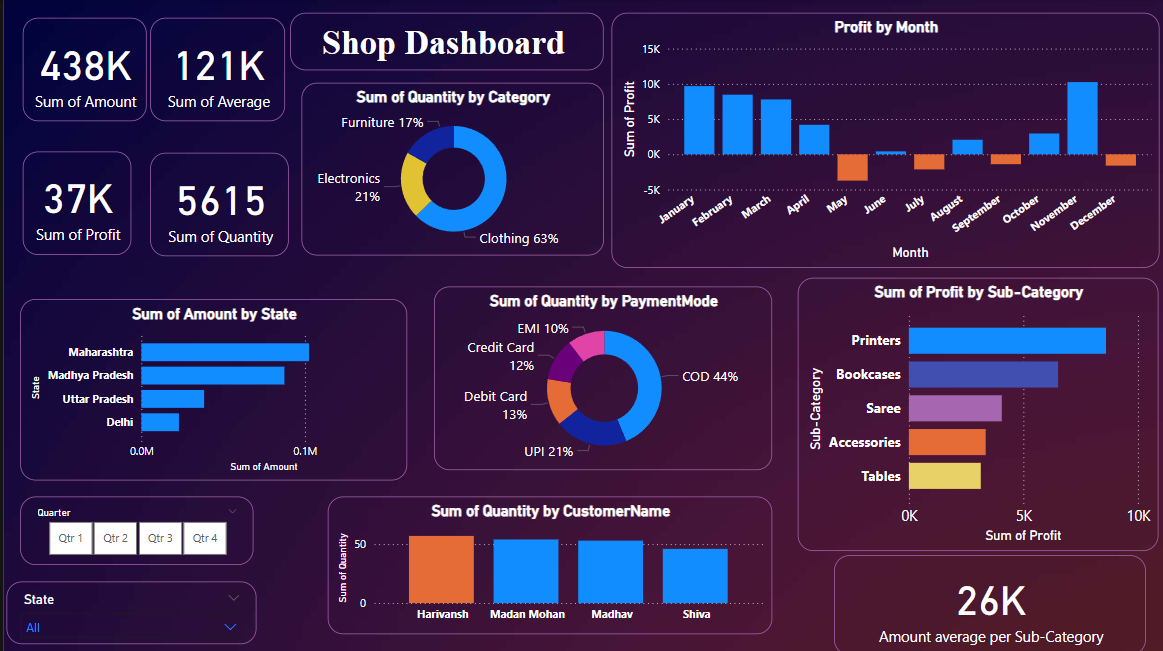

What the dashboard file says about the page in this screenshot:
{"tool":"powerbi","page":{"name":"Page 1","canvas":[1280,720],"ordinal":0},"visuals":[{"type":"columnChart","title":"Profit by Month","fields":{"Category":["Orders.Order Date.Variation.Date Hierarchy.Month"],"Y":["Details.Profit"]},"box":[666.3,15.1,601.9,279.7],"z":0},{"type":"textbox","box":[314,15.1,344.1,63.1],"z":1000},{"type":"clusteredBarChart","fields":{"Category":["Details.Sub-Category"],"Y":["Details.Profit"]},"box":[872,305.7,396.2,300.3],"z":2000},{"type":"donutChart","fields":{"Category":["Details.Category"],"Y":["Details.Quantity"]},"box":[326.3,91.9,331.8,189.2],"z":3000},{"type":"donutChart","fields":{"Y":["Details.Quantity"],"Category":["Details.PaymentMode"]},"box":[471.6,315.3,371.6,201.5],"z":4000},{"type":"card","fields":{"Values":["Details.Amount"]},"box":[20.6,20.6,135.7,113.8],"z":5000},{"type":"card","fields":{"Values":["Details.Profit"]},"box":[20.6,167.3,119.3,113.8],"z":6000},{"type":"card","fields":{"Values":["Details.Average"]},"box":[160.4,20.6,148.1,113.8],"z":7000},{"type":"card","fields":{"Values":["Details.Quantity"]},"box":[160.4,168.6,152.2,113.8],"z":8000},{"type":"clusteredBarChart","fields":{"Category":["Orders.State"],"Y":["Details.Amount"]},"box":[17.8,329.1,425,198.8],"z":9000},{"type":"columnChart","fields":{"Category":["Orders.CustomerName"],"Y":["Details.Quantity"]},"box":[355.1,545.7,488.1,150.8],"z":10000},{"type":"slicer","fields":{"Values":["Orders.Order Date.Variation.Date Hierarchy.Quarter"]},"box":[17.8,545.7,256.4,75.4],"z":11000},{"type":"slicer","fields":{"Values":["Orders.State"]},"box":[2.7,638.9,274.2,68.6],"z":12000},{"type":"card","fields":{"Values":["Details.Amount average per Sub-Category"]},"box":[911.7,610.1,342.8,109.7],"z":13000}]}

Visuals, with their boxes in screenshot pixels (x1, y1, x2, y2), scaled from the page's 1280x720 canvas onto the 1163x651 screenshot:
"Profit by Month" columnChart: {"x1": 605, "y1": 14, "x2": 1152, "y2": 267}
textbox: {"x1": 285, "y1": 14, "x2": 598, "y2": 71}
clusteredBarChart - Details.Sub-Category x Details.Profit: {"x1": 792, "y1": 276, "x2": 1152, "y2": 548}
donutChart - Details.Category x Details.Quantity: {"x1": 296, "y1": 83, "x2": 598, "y2": 254}
donutChart - Details.Quantity x Details.PaymentMode: {"x1": 428, "y1": 285, "x2": 766, "y2": 467}
card - Details.Amount: {"x1": 19, "y1": 19, "x2": 142, "y2": 122}
card - Details.Profit: {"x1": 19, "y1": 151, "x2": 127, "y2": 254}
card - Details.Average: {"x1": 146, "y1": 19, "x2": 280, "y2": 122}
card - Details.Quantity: {"x1": 146, "y1": 152, "x2": 284, "y2": 255}
clusteredBarChart - Orders.State x Details.Amount: {"x1": 16, "y1": 298, "x2": 402, "y2": 477}
columnChart - Orders.CustomerName x Details.Quantity: {"x1": 323, "y1": 493, "x2": 766, "y2": 630}
slicer - Orders.Order Date.Variation.Date Hierarchy.Quarter: {"x1": 16, "y1": 493, "x2": 249, "y2": 562}
slicer - Orders.State: {"x1": 2, "y1": 578, "x2": 252, "y2": 640}
card - Details.Amount average per Sub-Category: {"x1": 828, "y1": 552, "x2": 1140, "y2": 650}
